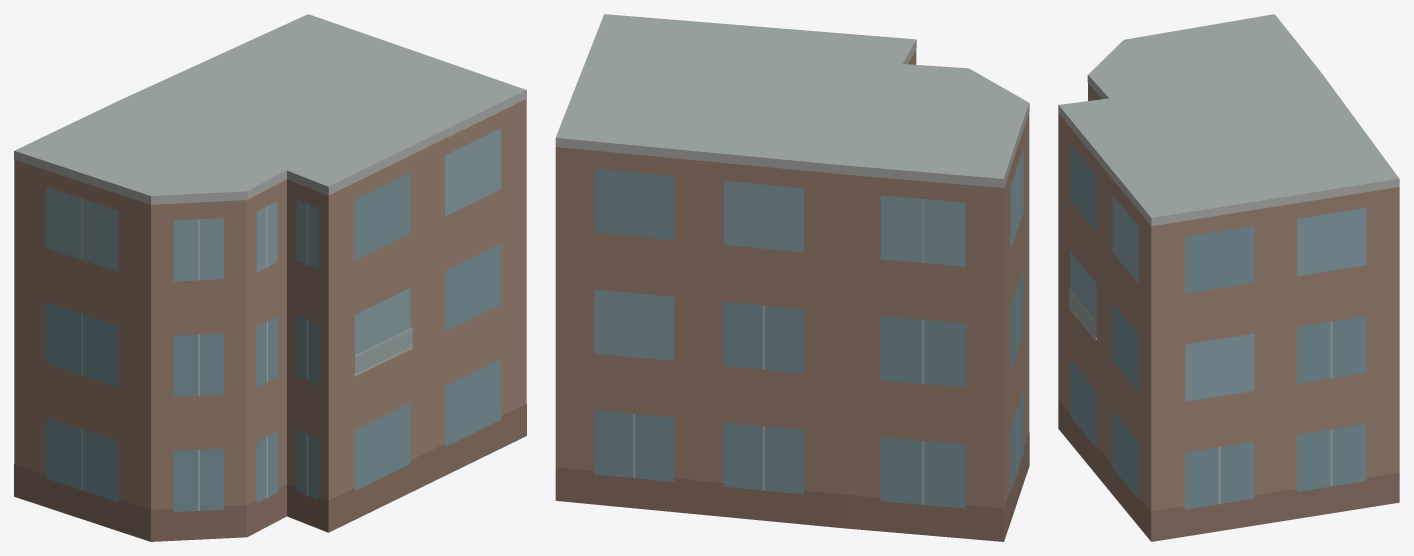
The model's file is survey-upis-32751735.glb.
3 views of the same model, side by side, from view 1: azimuth 30°, elevation 25°; view 2: azimuth 150°, elevation 25°; view 3: azimuth 270°, elevation 25° (orthographic). The views are drawn at different scales.
Parts seen in each view (by area): view 1: survey-upis-32751735.tmp; view 2: survey-upis-32751735.tmp; view 3: survey-upis-32751735.tmp.
Boxes of the visible parts, x1,y1,x2,y2 form: survey-upis-32751735.tmp: (14, 14, 526, 541); survey-upis-32751735.tmp: (555, 14, 1029, 541); survey-upis-32751735.tmp: (1058, 14, 1399, 541).
Bounding box in the file's own units: 13.13 × 9.7 × 9.27.
